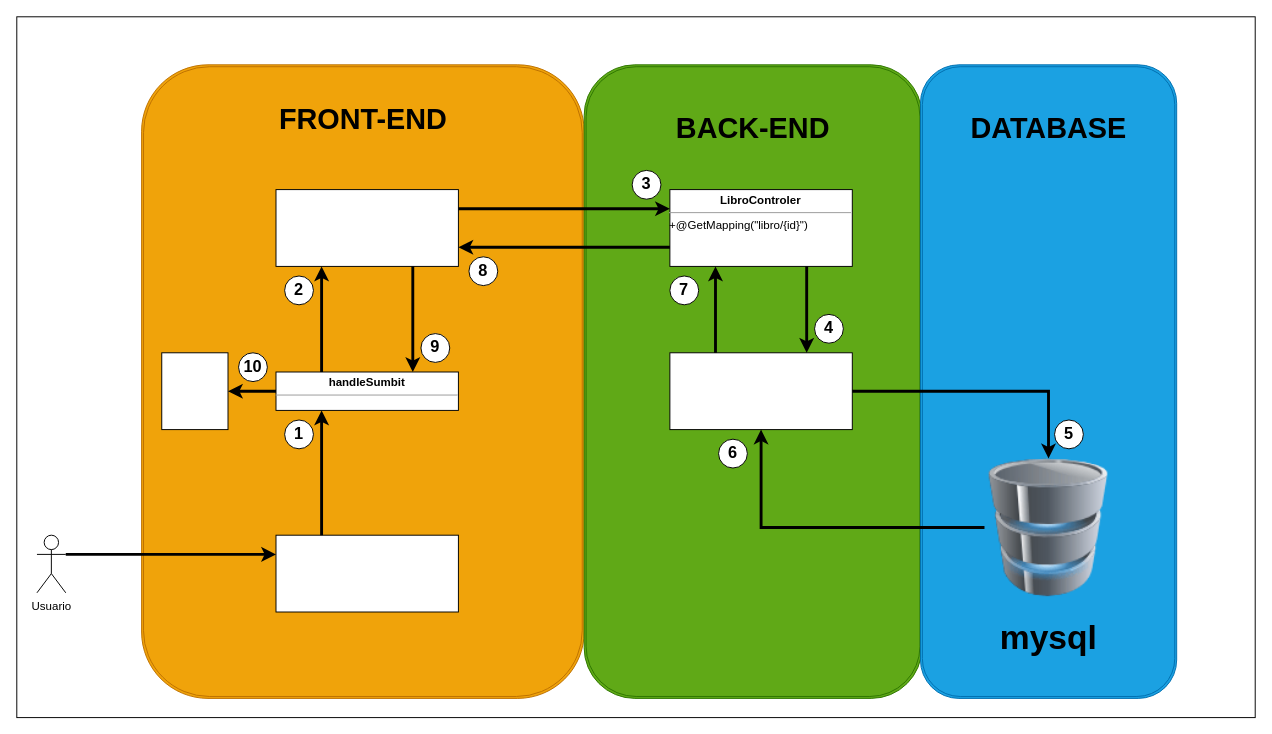
Some shapes in this 1272 by 734 pixel diagram are drawn without their labels. The box of each missing label's shape, as (x1, y1, x2, y2) in pixels:
Api +getLibros(titulo): (275, 189, 458, 266)
form +onSubmit={this.handleSubmit}: (275, 534, 458, 612)
LibroService +getLibroPorId(libroId): (669, 352, 852, 430)
modal + infoLibro: (161, 352, 228, 430)
